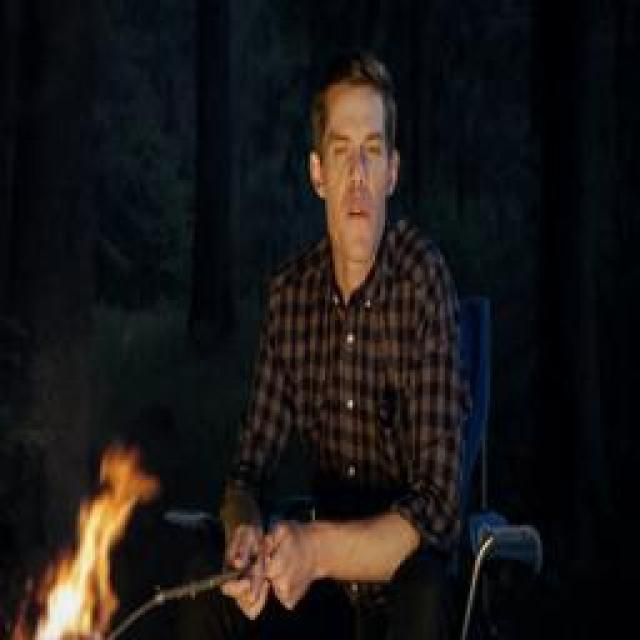Fire: (14, 445, 158, 640)
